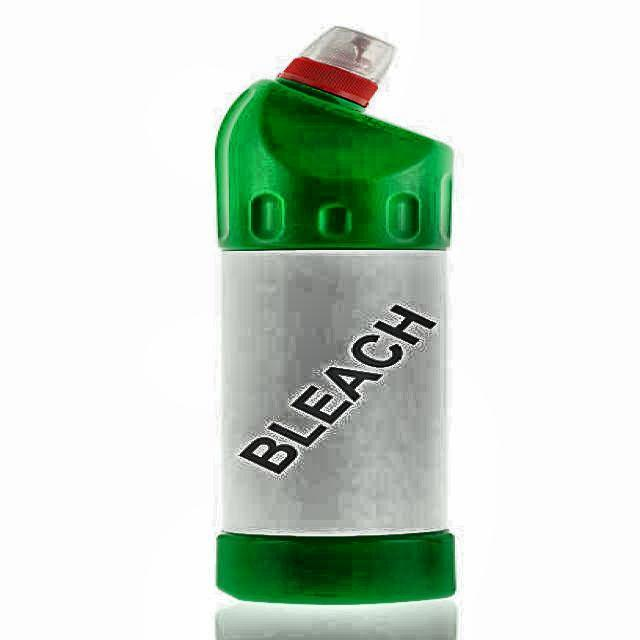plastic: (215, 28, 458, 603)
